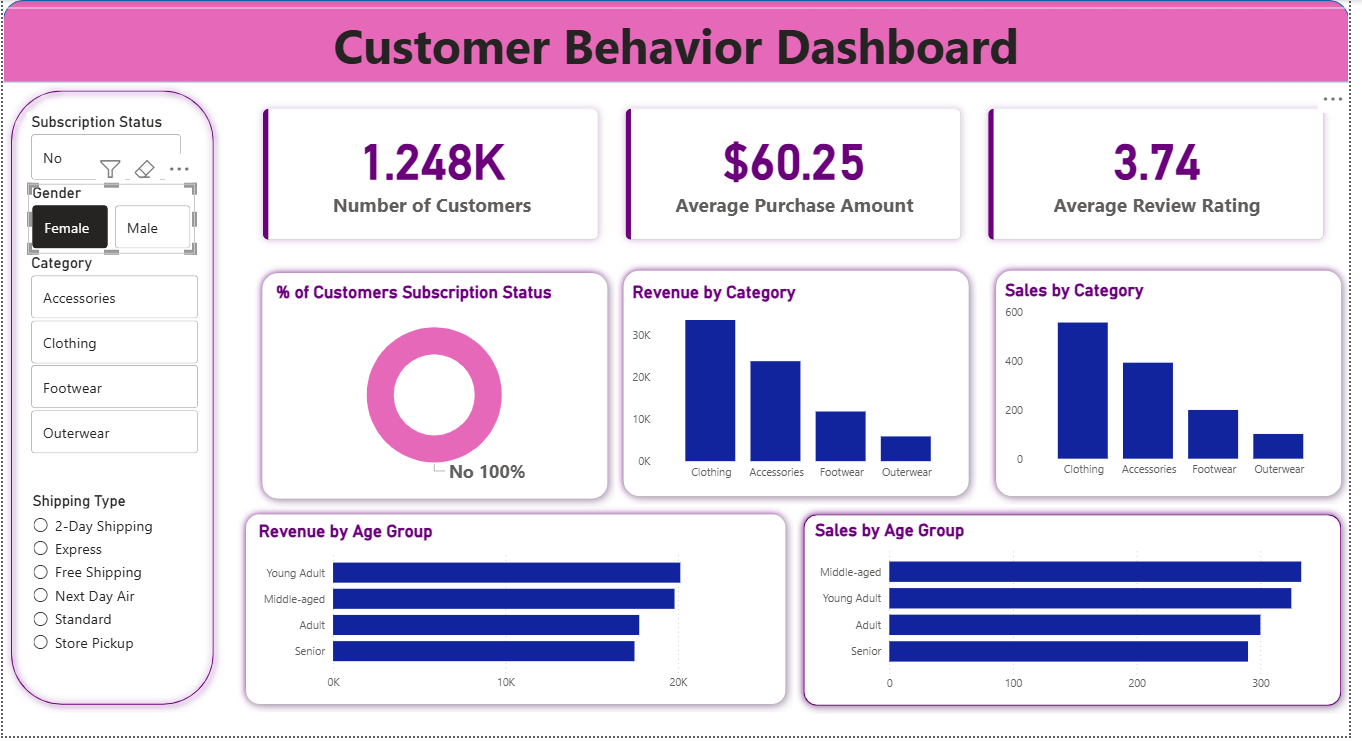

This screenshot's page, from the dashboard's own definition file:
{"tool":"powerbi","page":{"name":"Page 1","canvas":[1500,820],"ordinal":0},"visuals":[{"type":"cardVisual","fields":{"Data":["customer_behavior customer.Number of Customers","customer_behavior customer.Average Purchase Amount","customer_behavior customer.Average Review Rating"]},"box":[262.2,93.1,1238.1,202],"z":0},{"type":"shape","box":[0,0,1499.9,91.9],"z":1000},{"type":"textbox","box":[0,8.4,1499.9,83.6],"z":2000},{"type":"shape","box":[279.4,295.2,402.7,269.4],"z":3000},{"type":"donutChart","title":"% of Customers Subscription Status","fields":{"Category":["customer_behavior customer.subscription_status"],"Series":["customer_behavior customer.subscription_status"],"Y":["CountNonNull(customer_behavior customer.customer_id)"]},"box":[299.5,315.2,362.5,229.3],"z":4000},{"type":"shape","box":[682.1,292.3,402.7,269.4],"z":5000},{"type":"shape","box":[1097.6,292.3,402.7,269.4],"z":6000},{"type":"clusteredColumnChart","title":"Revenue by Category","fields":{"Y":["Sum(customer_behavior customer.purchase_amount)"],"Category":["customer_behavior customer.category"]},"box":[696.4,315.2,374,229.3],"z":7000},{"type":"clusteredColumnChart","title":"Sales by Category","fields":{"Y":["CountNonNull(customer_behavior customer.customer_id)"],"Category":["customer_behavior customer.category"]},"box":[1112,312.4,374,229.3],"z":8000},{"type":"shape","box":[0,91.7,243.6,702.1],"z":9000},{"type":"advancedSlicerVisual","fields":{"Values":["customer_behavior customer.subscription_status"]},"box":[25.8,124.7,177.7,80.2],"z":10000},{"type":"advancedSlicerVisual","fields":{"Values":["customer_behavior customer.gender"]},"box":[27.2,204.9,187.7,77.4],"z":11000},{"type":"advancedSlicerVisual","fields":{"Values":["customer_behavior customer.category"]},"box":[25.8,282.3,196.3,227.8],"z":12000},{"type":"listSlicer","fields":{"Values":["customer_behavior customer.shipping_type"]},"box":[27.2,547.4,189.1,214.9],"z":13000},{"type":"shape","box":[262.2,564.6,619,229.3],"z":14000},{"type":"clusteredBarChart","title":"Revenue by Age Group","fields":{"Y":["Sum(customer_behavior customer.purchase_amount)"],"Category":["customer_behavior customer.age_group"]},"box":[279.4,580.3,583.2,197.7],"z":15000},{"type":"shape","box":[883,564,617,231.2],"z":16000},{"type":"clusteredBarChart","title":"Sales by Age Group","fields":{"Y":["CountNonNull(customer_behavior customer.customer_id)"],"Category":["customer_behavior customer.age_group"]},"box":[899.2,579.7,585.4,199.8],"z":17000}]}

Visuals, with their boxes in screenshot pixels (x1, y1, x2, y2), scaled from the page's 1500x820 canvas onto the 1362x741 screenshot:
cardVisual - customer_behavior customer.Number of Customers x customer_behavior customer.Average Purchase Amount: bbox=(238, 84, 1361, 267)
shape: bbox=(0, 0, 1361, 83)
textbox: bbox=(0, 8, 1361, 83)
shape: bbox=(254, 267, 619, 510)
"% of Customers Subscription Status" donutChart: bbox=(272, 285, 601, 492)
shape: bbox=(619, 264, 985, 508)
shape: bbox=(997, 264, 1361, 508)
"Revenue by Category" clusteredColumnChart: bbox=(632, 285, 972, 492)
"Sales by Category" clusteredColumnChart: bbox=(1010, 282, 1349, 490)
shape: bbox=(0, 83, 221, 717)
advancedSlicerVisual - customer_behavior customer.subscription_status: bbox=(23, 113, 185, 185)
advancedSlicerVisual - customer_behavior customer.gender: bbox=(25, 185, 195, 255)
advancedSlicerVisual - customer_behavior customer.category: bbox=(23, 255, 202, 461)
listSlicer - customer_behavior customer.shipping_type: bbox=(25, 495, 196, 689)
shape: bbox=(238, 510, 800, 717)
"Revenue by Age Group" clusteredBarChart: bbox=(254, 524, 783, 703)
shape: bbox=(802, 510, 1361, 719)
"Sales by Age Group" clusteredBarChart: bbox=(816, 524, 1348, 704)
